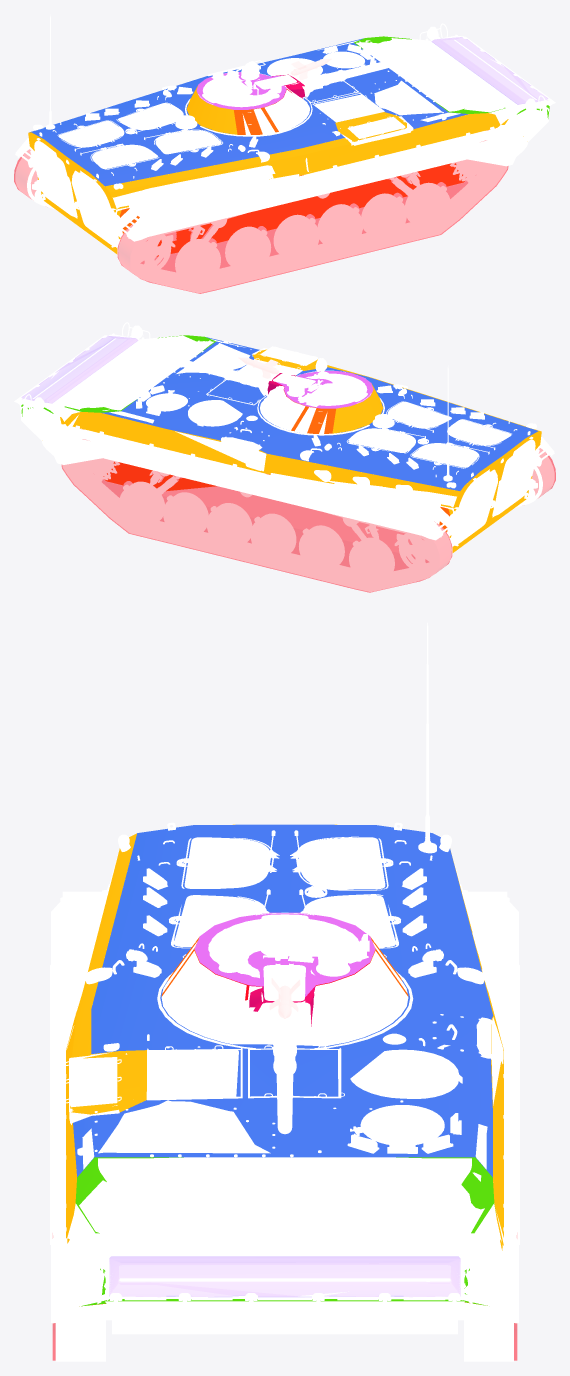
The model's file is BMP1.gltf.
The picture shows the model from 3 angles, top to bottom: view 1: azimuth 30°, elevation 25°; view 2: azimuth 150°, elevation 25°; view 3: azimuth 270°, elevation 25°; orthographic projection. The views are drawn at different scales.
Visible parts, largest first — view 1: 41, bmp1_track_col_Right_129, bmp1_hull_col, bmp1_hull_col_3, 41_2, bmp1_hull_col_5, 41_6, BMP1_watershield_col_114, 41_1, bmp1_hull_col_2, 41_5, bmp1_turret_col_2 (+6 smaller); view 2: 41, bmp1_track_col_Left_126, bmp1_hull_col, 41_3, bmp1_hull_col_3, 41_6, BMP1_watershield_col_114, bmp1_hull_col_2, bmp1_turret_col_2, bmp1_hull_col_5, 41_5, bmp1_turret_col_4 (+6 smaller); view 3: 41, bmp1_hull_col, 41_6, BMP1_watershield_col_114, bmp1_hull_col_3, 41_1, 41_5, bmp1_turret_col_4, bmp1_hull_col_4, 41_2, 41_3.
Part boxes in pixels (x1,y1,x2,y2): 41: (15,14,555,281); bmp1_track_col_Right_129: (117,140,508,293); bmp1_hull_col: (29,38,468,186); bmp1_hull_col_3: (105,112,523,209); 41_2: (117,131,507,293); bmp1_hull_col_5: (119,128,495,256); 41_6: (198,60,309,135); BMP1_watershield_col_114: (431,37,547,104); 41_1: (315,94,403,137); bmp1_hull_col_2: (28,132,121,254); 41_5: (289,56,406,97); bmp1_turret_col_2: (186,86,237,134); 41: (14,322,554,580); bmp1_track_col_Left_126: (61,439,452,592); bmp1_hull_col: (101,337,538,490); 41_3: (62,430,452,592); bmp1_hull_col_3: (60,349,540,508); 41_6: (260,358,371,433); BMP1_watershield_col_114: (21,335,138,403); bmp1_hull_col_2: (448,431,541,552); bmp1_turret_col_2: (332,383,383,433); bmp1_hull_col_5: (80,428,450,532); 41_5: (163,355,284,395); bmp1_turret_col_4: (276,371,373,408); 41: (50,622,519,1334); bmp1_hull_col: (73,824,493,1177); 41_6: (161,912,408,1045); BMP1_watershield_col_114: (109,1256,460,1297); bmp1_hull_col_3: (66,833,503,1250); 41_1: (71,1050,339,1102); 41_5: (244,1002,311,1134); bmp1_turret_col_4: (194,912,375,996); bmp1_hull_col_4: (74,1157,495,1306); 41_2: (55,1320,105,1361); 41_3: (464,1320,513,1361).
Bounding box in the file's own units: 6.81 × 3.27 × 3.08.
